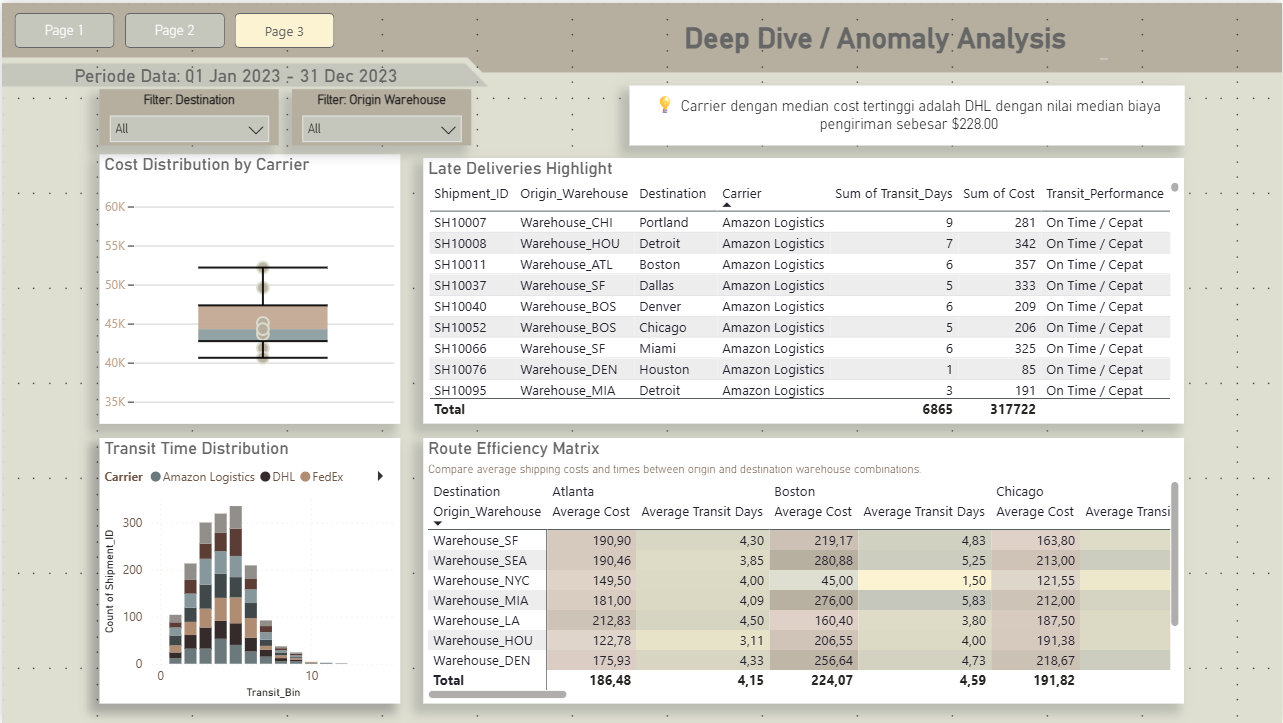

The dashboard page shown, as its layout file describes it:
{"tool":"powerbi","page":{"name":"Page 3","canvas":[1280,720],"ordinal":2},"visuals":[{"type":"BoxandWhiskerByMAQ1823AD39DT234AB532063E128AX","title":"Cost Distribution by Carrier","fields":{"category":["logistics_clean.Carrier"],"measure":["Sum(logistics_clean.Cost)"]},"box":[97.4,151.2,300.5,269.9],"z":0},{"type":"card","fields":{"Values":["logistics_clean.Boxplot_Insight"]},"box":[627.5,82.1,555.1,59.8],"z":1000},{"type":"tableEx","title":"Late Deliveries Highlight","fields":{"Values":["logistics_clean.Shipment_ID","logistics_clean.Origin_Warehouse","logistics_clean.Destination","logistics_clean.Carrier","Sum(logistics_clean.Transit_Days)","Sum(logistics_clean.Cost)","logistics_clean.Transit_Performance"]},"box":[421.6,155.4,761,265.7],"z":2000},{"type":"columnChart","title":"Transit Time Distribution","fields":{"Y":["CountNonNull(logistics_clean.Shipment_ID)"],"Category":["logistics_clean.Transit_Bin"],"Series":["logistics_clean.Carrier"]},"box":[97.4,435.5,300.5,265.7],"z":3000},{"type":"pivotTable","title":"Route Efficiency Matrix","fields":{"Rows":["logistics_clean.Origin_Warehouse"],"Columns":["logistics_clean.Destination"],"Values":["logistics_clean.Average Cost","logistics_clean.Average Transit Days"]},"box":[421.6,435.5,761,265.7],"z":4000},{"type":"slicer","title":"Filter: Origin Warehouse","fields":{"Values":["logistics_clean.Origin_Warehouse"]},"box":[289.4,86.3,179.5,55.7],"z":5000},{"type":"slicer","title":"Filter: Destination","fields":{"Values":["logistics_clean.Carrier"]},"box":[97.4,86.3,179.5,55.7],"z":6000},{"type":"textbox","title":"Deep Dive / Anomaly Analysis","box":[635.7,17.1,474.3,44.3],"z":7000},{"type":"card","fields":{"Values":["logistics_clean.Data Periode"]},"box":[0,57.1,468.6,25.7],"z":8000},{"type":"pageNavigator","box":[12.5,9.7,320,35],"z":9000}]}

Visuals, with their boxes in screenshot pixels (x1, y1, x2, y2), scaled from the page's 1280x720 canvas onto the 1283x723 screenshot:
"Cost Distribution by Carrier" BoxandWhiskerByMAQ1823AD39DT234AB532063E128AX: bbox=[98, 152, 399, 423]
card - logistics_clean.Boxplot_Insight: bbox=[629, 82, 1185, 142]
"Late Deliveries Highlight" tableEx: bbox=[423, 156, 1185, 423]
"Transit Time Distribution" columnChart: bbox=[98, 437, 399, 704]
"Route Efficiency Matrix" pivotTable: bbox=[423, 437, 1185, 704]
"Filter: Origin Warehouse" slicer: bbox=[290, 87, 470, 143]
"Filter: Destination" slicer: bbox=[98, 87, 278, 143]
"Deep Dive / Anomaly Analysis" textbox: bbox=[637, 17, 1113, 62]
card - logistics_clean.Data Periode: bbox=[0, 57, 470, 83]
pageNavigator: bbox=[13, 10, 333, 45]
